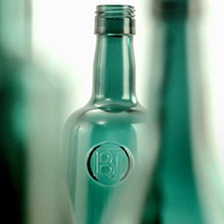bottle: (57, 2, 163, 223)
